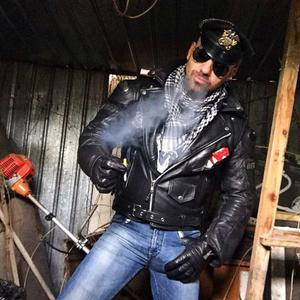cigarette: (123, 159, 128, 181)
